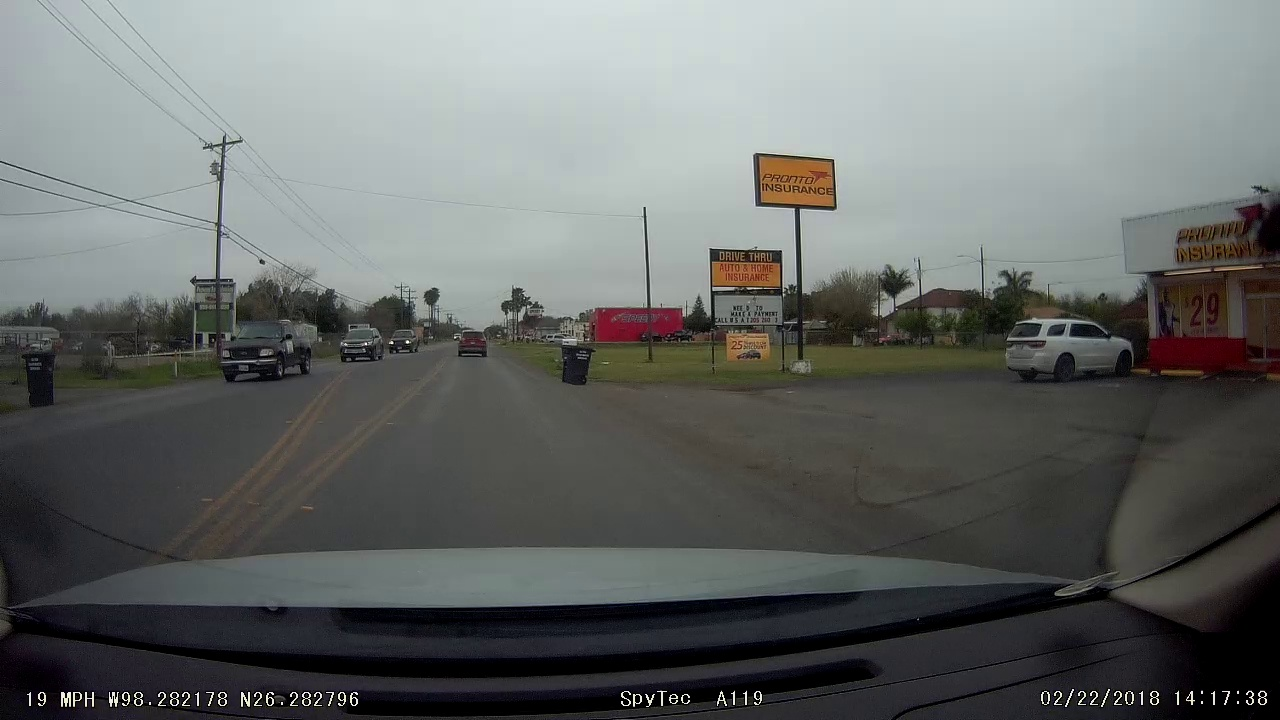blurredLine: (181, 447, 360, 544)
